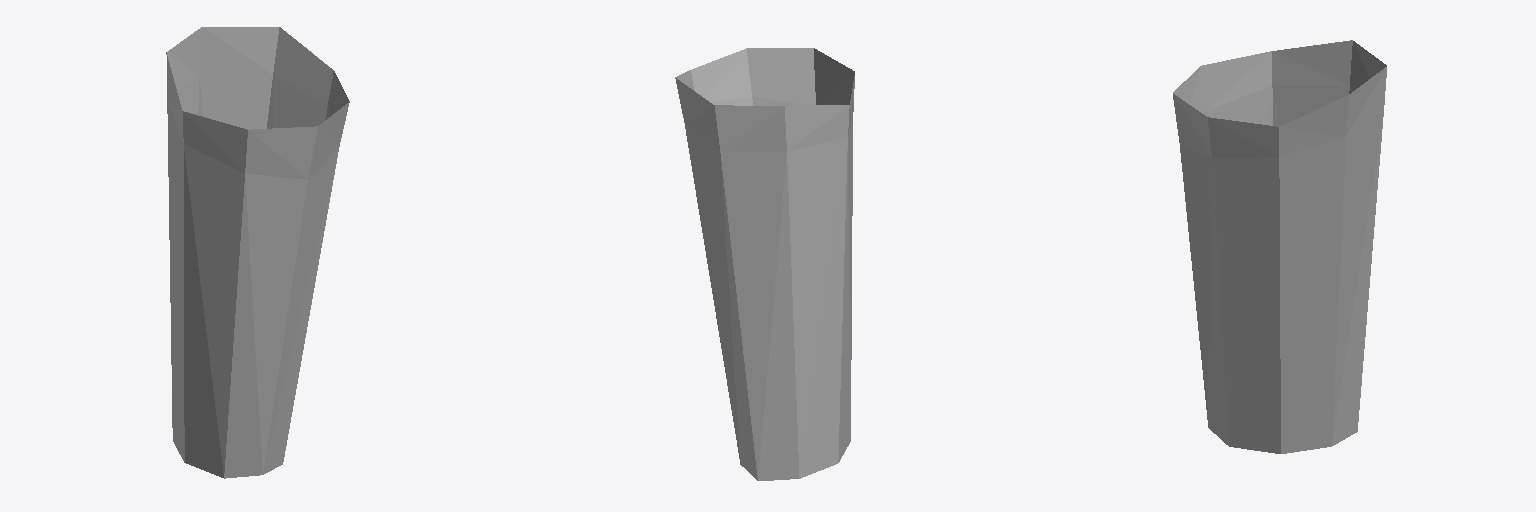
Rendered from low_legs_L.obj.
3 views of the same model, side by side, from view 1: azimuth 30°, elevation 25°; view 2: azimuth 150°, elevation 25°; view 3: azimuth 270°, elevation 25° (orthographic).
Parts seen in each view (by area): view 1: KERORO; view 2: KERORO; view 3: KERORO.
Part boxes in pixels (left/top/right/bottom): KERORO: left=166, top=27, right=349, bottom=478; KERORO: left=675, top=48, right=854, bottom=480; KERORO: left=1173, top=40, right=1386, bottom=453.
Size of the model in its own units: 0.4989 by 1.17 by 0.5979.